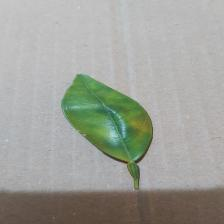greening: (56, 71, 161, 191)
